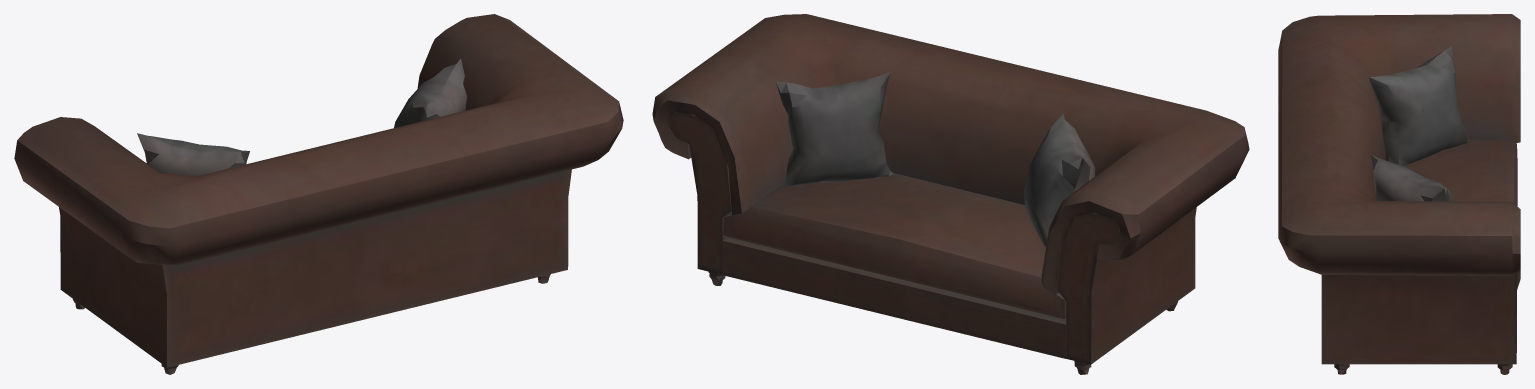
Rendered from sofa-leather-3seat.lod1.glb.
The picture shows the model from 3 angles, left to right: view 1: azimuth 30°, elevation 25°; view 2: azimuth 150°, elevation 25°; view 3: azimuth 270°, elevation 25°; orthographic projection. The views are drawn at different scales.
Parts seen in each view (by area): view 1: sofa-leather-3seat; view 2: sofa-leather-3seat; view 3: sofa-leather-3seat.
Boxes of the visible parts, x1,y1,x2,y2 form: sofa-leather-3seat: (14, 14, 623, 374); sofa-leather-3seat: (652, 14, 1249, 374); sofa-leather-3seat: (1278, 14, 1520, 374).
Bounding box in the file's own units: 2.01 × 0.7399 × 0.9254.
1 material, 1 textured.
